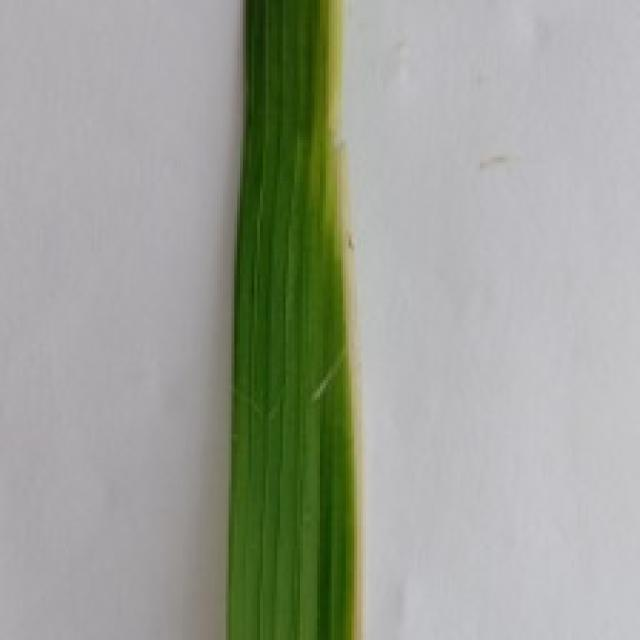Bacterial_Blight: (310, 0, 370, 640)
